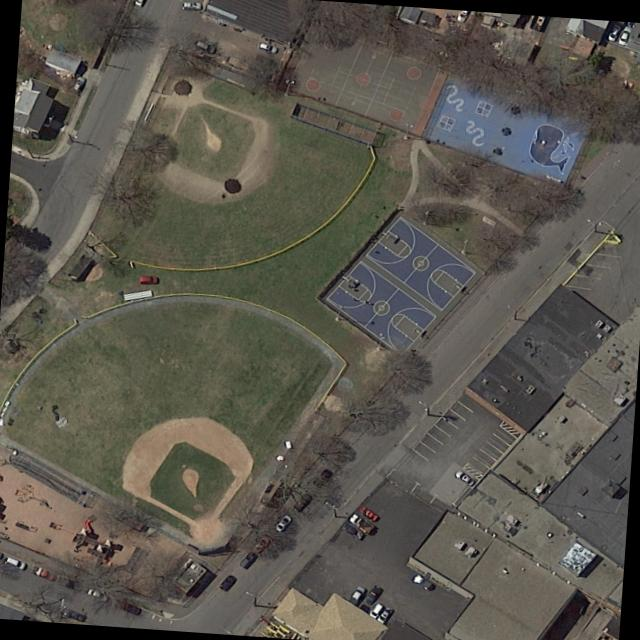small-vehicle: (348, 511, 375, 534), (290, 490, 314, 512), (452, 466, 477, 486), (249, 533, 271, 555), (55, 574, 84, 590), (311, 466, 333, 487), (30, 564, 57, 581), (340, 521, 364, 540), (362, 582, 382, 604), (615, 23, 635, 45), (357, 502, 380, 521), (410, 571, 433, 590), (272, 512, 293, 531), (347, 583, 365, 605), (2, 554, 26, 570), (254, 38, 278, 54), (85, 586, 110, 601), (194, 38, 217, 54), (218, 573, 238, 591), (375, 604, 393, 623), (239, 549, 257, 568), (70, 74, 87, 93), (119, 600, 140, 615), (65, 608, 87, 622), (606, 23, 622, 41), (138, 274, 159, 284), (182, 0, 200, 9), (133, 0, 144, 6)
